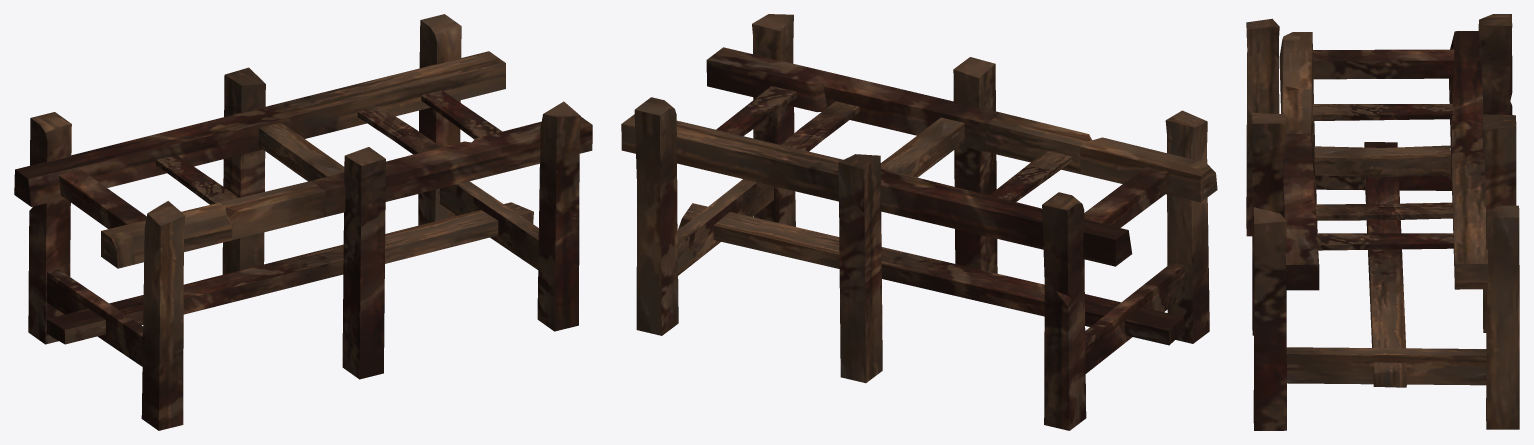
File: rysd_jz_01.FBX
The picture shows the model from 3 angles, left to right: view 1: azimuth 30°, elevation 25°; view 2: azimuth 150°, elevation 25°; view 3: azimuth 270°, elevation 25°; orthographic projection. The views are drawn at different scales.
Parts seen in each view (by area): view 1: rysd_jz_01; view 2: rysd_jz_01; view 3: rysd_jz_01.
Boxes of the visible parts, left/top/right/bottom form: rysd_jz_01: left=14, top=14, right=592, bottom=430; rysd_jz_01: left=621, top=14, right=1217, bottom=430; rysd_jz_01: left=1246, top=14, right=1519, bottom=430.
Bounding box in the file's own units: 262 × 110 × 127.
